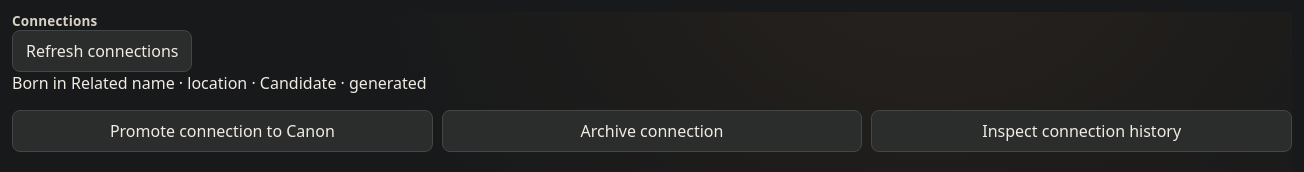
Test: Connections reload integrity › requires a reload after a successful mutation whose readback fails
Step 1. Click the button "Promote connection to Canon" → (222, 131), box [12,110,433,152]
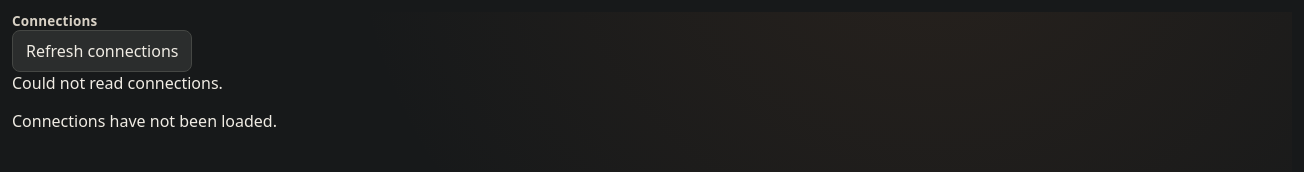
Expected: the message reads "Could not read connections.", [12,72,223,94]
Expected: the button "Promote connection to Canon" is gone
